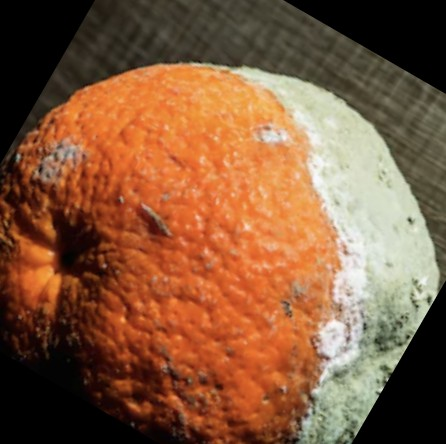rotten_orange: (1, 64, 439, 444)
